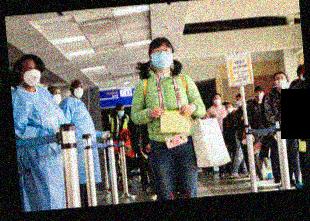with_mask: (150, 45, 174, 70), (22, 62, 41, 87), (72, 84, 84, 100), (273, 76, 287, 89), (51, 91, 62, 106), (254, 90, 266, 100), (212, 96, 222, 107), (115, 108, 125, 117), (225, 105, 234, 114), (235, 98, 243, 107)
without_mask: (123, 132, 130, 141)
